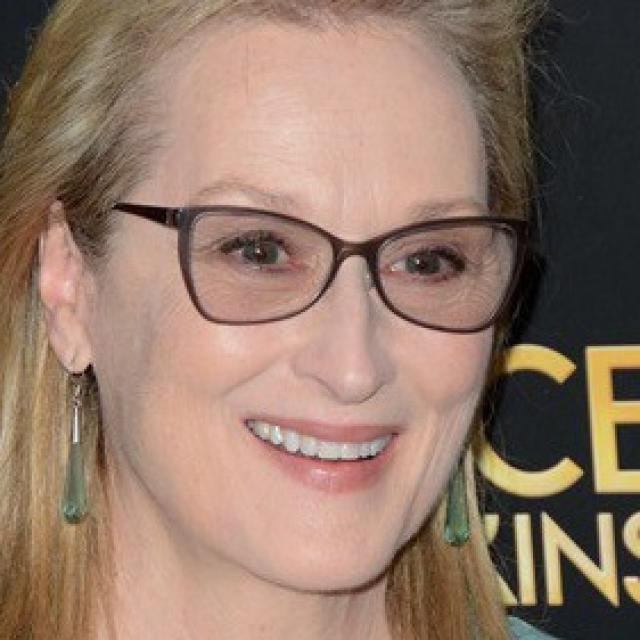Normal: (99, 20, 503, 597)
